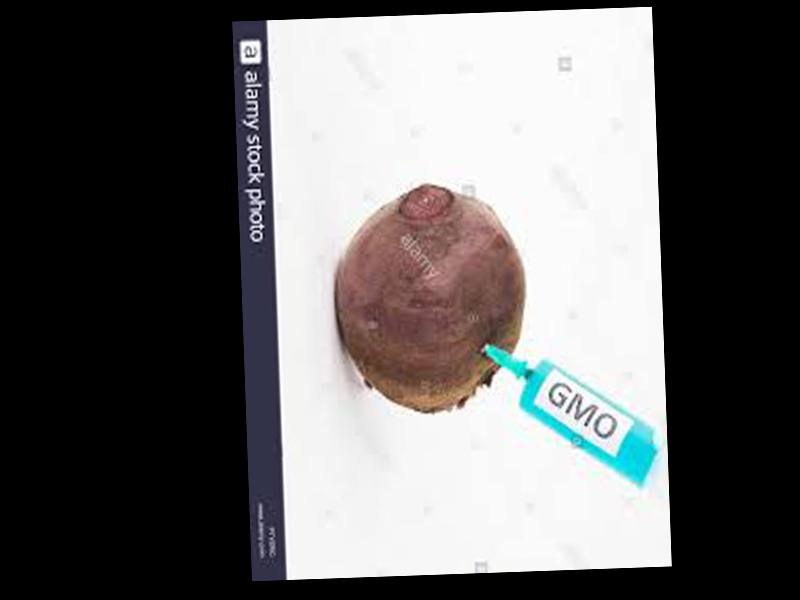Beet: (330, 182, 530, 412)
